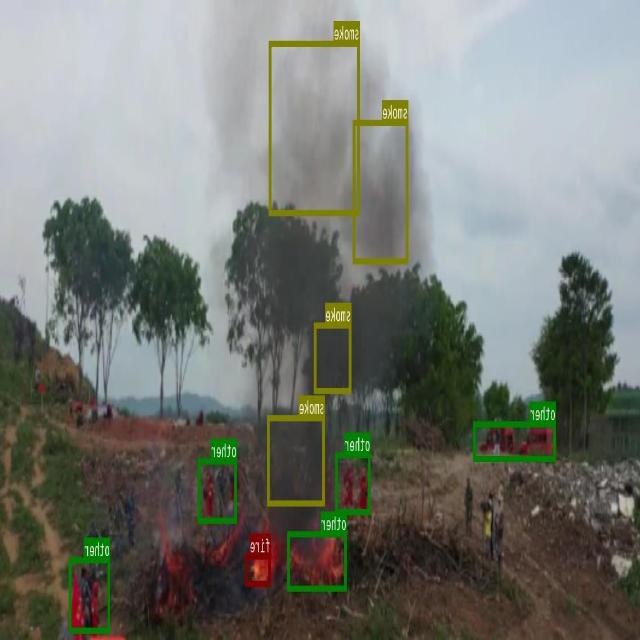fire: (246, 554, 272, 584)
other: (288, 530, 348, 590), (474, 421, 556, 460), (69, 557, 111, 632), (198, 458, 238, 522), (336, 452, 371, 514)
smoke: (270, 40, 360, 214), (353, 119, 409, 262), (268, 414, 325, 505), (315, 322, 352, 392)
